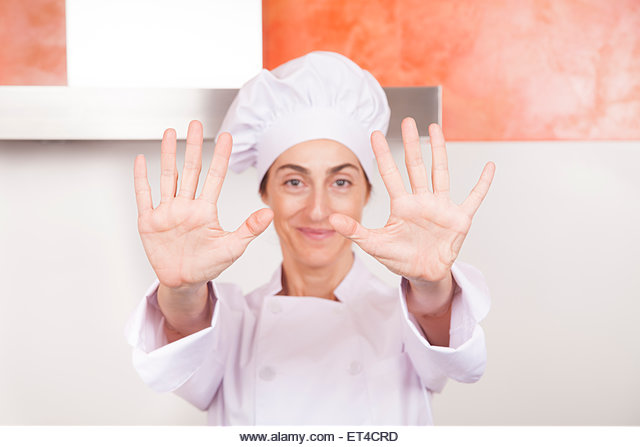hand: (320, 114, 507, 301), (119, 112, 277, 319)
